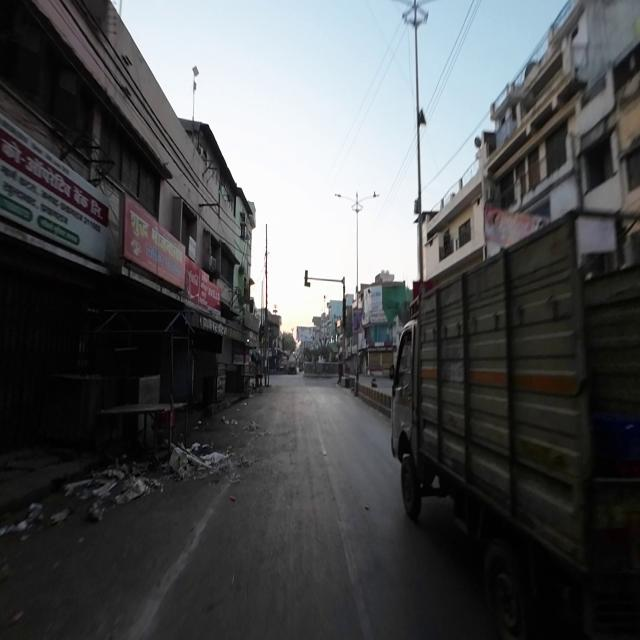Garbage: (67, 463, 156, 515), (169, 437, 231, 477), (0, 502, 44, 539)
